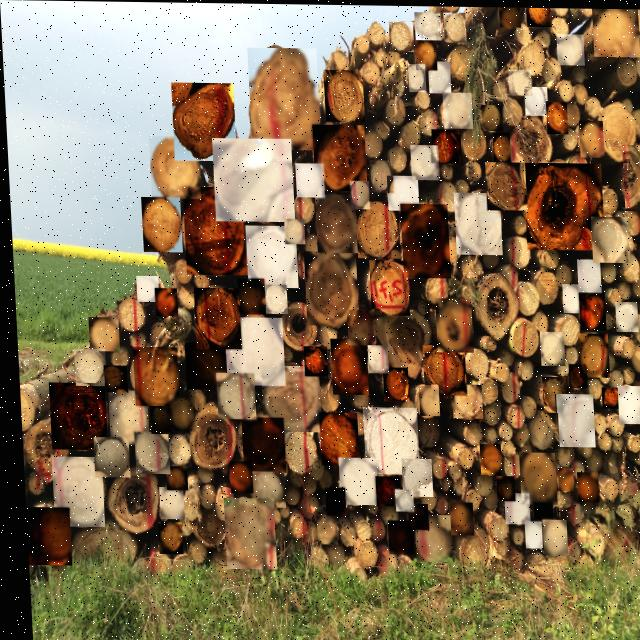wood-log: (247, 47, 320, 150), (521, 161, 603, 249), (210, 137, 293, 221), (180, 186, 248, 275), (170, 82, 235, 161), (221, 316, 282, 385), (301, 250, 356, 325), (257, 365, 317, 432), (45, 382, 103, 450), (358, 406, 415, 474), (218, 497, 271, 569), (47, 457, 100, 527), (398, 203, 448, 277), (311, 123, 366, 190), (243, 225, 296, 287), (147, 136, 199, 198), (452, 191, 500, 254), (191, 287, 238, 349), (129, 346, 176, 406), (21, 507, 66, 566), (353, 200, 398, 258), (313, 193, 355, 252), (237, 417, 281, 472), (419, 344, 463, 397), (592, 7, 640, 55), (366, 259, 407, 315), (139, 197, 180, 252), (104, 390, 145, 444), (483, 161, 525, 212), (323, 69, 364, 121), (327, 338, 365, 394), (315, 412, 355, 465), (432, 297, 470, 351), (553, 392, 591, 446), (515, 451, 553, 504), (181, 342, 223, 389), (333, 457, 373, 504), (212, 372, 252, 419), (409, 514, 447, 561), (589, 215, 627, 261), (130, 431, 165, 474), (89, 437, 125, 477), (574, 332, 606, 376), (246, 471, 281, 507), (621, 143, 640, 209), (396, 457, 428, 496), (70, 349, 103, 386), (385, 174, 417, 210), (441, 91, 472, 127), (576, 290, 604, 329), (447, 383, 479, 417), (85, 317, 116, 351), (431, 128, 462, 162), (409, 144, 439, 179), (234, 278, 263, 314), (613, 384, 640, 422), (294, 162, 323, 197), (539, 375, 566, 411), (344, 309, 371, 344), (165, 395, 191, 431), (578, 119, 603, 156), (537, 518, 562, 554), (556, 32, 584, 64), (382, 520, 408, 554), (536, 330, 562, 364), (379, 366, 405, 400), (162, 434, 187, 467), (444, 501, 469, 534), (574, 258, 599, 291), (499, 492, 525, 523), (154, 487, 179, 519), (152, 522, 177, 554), (427, 60, 451, 92), (225, 460, 248, 493), (369, 159, 392, 192), (414, 11, 441, 39), (389, 21, 414, 51), (370, 475, 395, 505), (300, 345, 324, 376), (523, 86, 547, 116), (443, 11, 467, 41), (475, 442, 497, 474), (545, 101, 567, 133), (261, 284, 285, 313), (612, 300, 635, 330), (414, 39, 437, 69), (572, 470, 594, 501), (145, 406, 169, 434), (414, 385, 436, 415), (311, 513, 332, 544), (100, 365, 124, 392), (508, 68, 532, 95), (152, 288, 175, 316), (133, 275, 156, 302), (559, 282, 579, 312), (320, 487, 341, 515), (349, 180, 370, 208), (364, 344, 385, 372), (480, 104, 502, 130), (402, 502, 423, 529), (491, 131, 509, 161), (407, 63, 426, 91), (161, 466, 183, 490), (282, 218, 303, 243), (564, 362, 584, 387), (492, 474, 511, 500), (526, 6, 552, 25), (519, 520, 537, 547), (499, 6, 521, 26), (390, 488, 409, 510), (528, 501, 548, 521), (597, 386, 614, 408), (553, 466, 569, 489)
